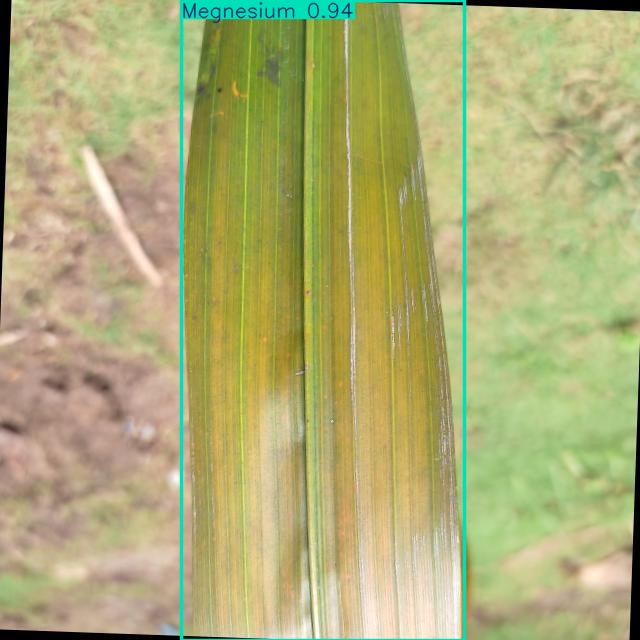Megnesium: (182, 0, 465, 640)
